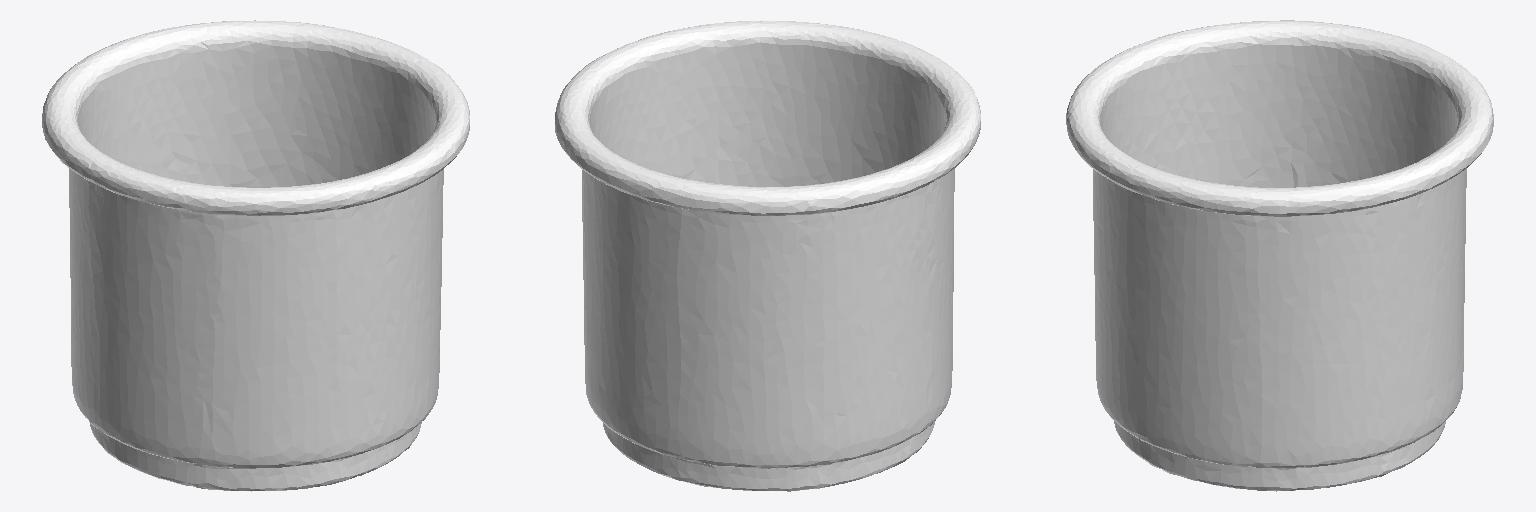
The robot description file, URDF, robot "019_pitcher_base":
<robot name="019_pitcher_base">
	<link name="_name">
		<visual>
			<origin xyz="0.13413446511744048 -0.3347736239251225 -1.2263624751276252" rpy="0 0 0" />
			<geometry>
				<mesh filename="019_pitcher_base/google_16k/textured.obj" scale="10 10 10" />
			</geometry>
			<material name="texture">
				<color rgba="1.0 1.0 1.0 1.0" />
			</material>
		</visual>
		<collision>
			<geometry>
				<mesh filename="019_pitcher_base/google_16k/textured_vhacd.obj" scale="10 10 10" />
			</geometry>
		<origin xyz="0.13413446511744048 -0.3347736239251225 -1.2263624751276252" rpy="0 0 0" /></collision>
		<inertial>
			<mass value="1.0" />
			<inertia ixx="1.0" ixy="0.0" ixz="0.0" iyy="1.0" iyz="0.0" izz="1.0" />
		</inertial>
	</link>
</robot>

--- Facts derived from the render (not from the file) ---
The picture shows the robot from 3 angles, left to right: view 1: azimuth 30°, elevation 25°; view 2: azimuth 150°, elevation 25°; view 3: azimuth 270°, elevation 25°; orthographic projection.
Robot: 019_pitcher_base — 1 links, 0 joints (none); root link _name; default pose: every joint at zero.
Links seen in each view (by area): view 1: _name; view 2: _name; view 3: _name.
Link boxes in pixels (x1=…): _name: x1=42, y1=20, x2=469, y2=491; _name: x1=555, y1=20, x2=980, y2=491; _name: x1=1066, y1=20, x2=1493, y2=491.
Bounding box of the posed robot: 0.915 × 0.9162 × 0.7506 m (x, y, z).
1 mesh visuals loaded from 1 distinct referenced files (1 OBJ).